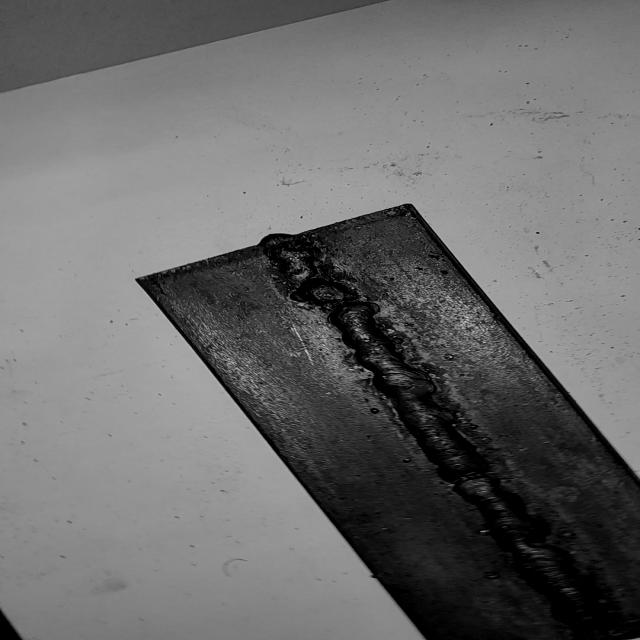Bad Weld: (264, 231, 640, 640)
Defect: (256, 235, 368, 322)
